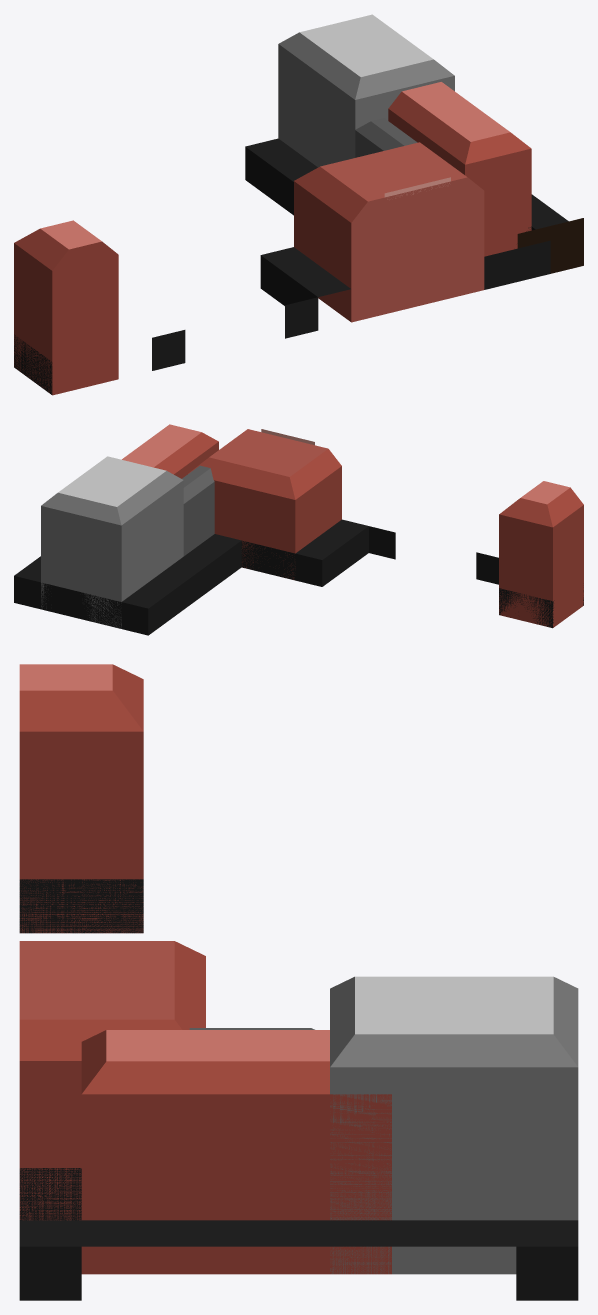
The model's file is newshu-1.glb.
3 views of the same model, one above another, from view 1: azimuth 30°, elevation 25°; view 2: azimuth 150°, elevation 25°; view 3: azimuth 270°, elevation 25° (orthographic). The views are drawn at different scales.
Parts seen in each view (by area): view 1: newshu-1; view 2: newshu-1; view 3: newshu-1.
Boxes of the visible parts, left/top/right/bottom form: newshu-1: left=14, top=14, right=583, bottom=395; newshu-1: left=14, top=424, right=583, bottom=635; newshu-1: left=19, top=664, right=578, bottom=1300.
Size of the model in its own units: 1.33 by 0.34 by 0.75.
